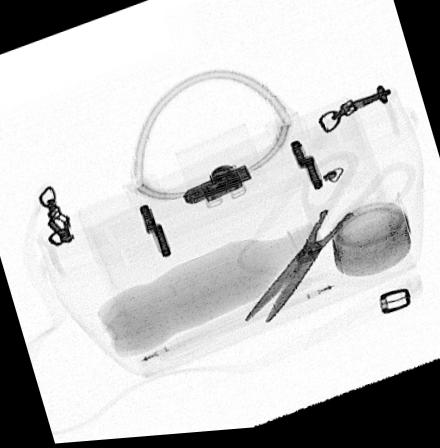Scissors: (239, 152, 420, 332)
